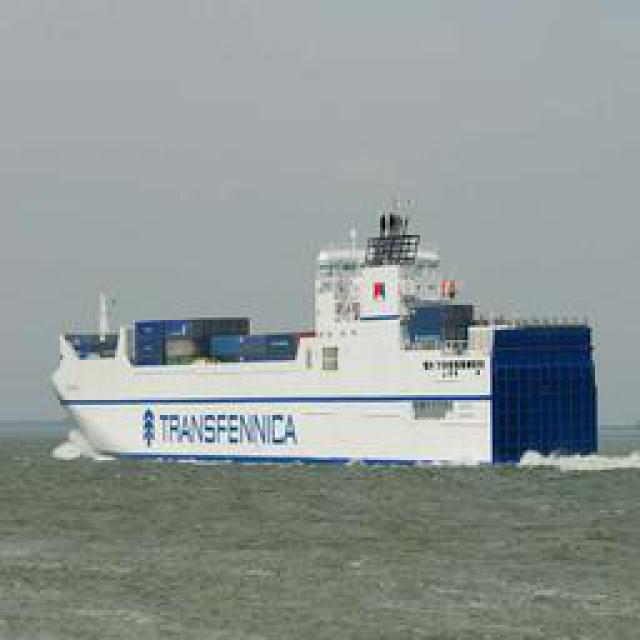Ship: (63, 200, 548, 463)
